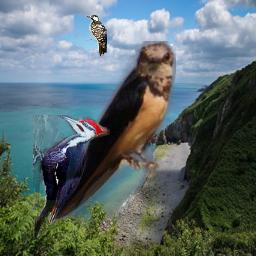Swallow: (51, 41, 176, 226)
Woodpecker: (33, 115, 110, 242), (86, 15, 107, 57)
